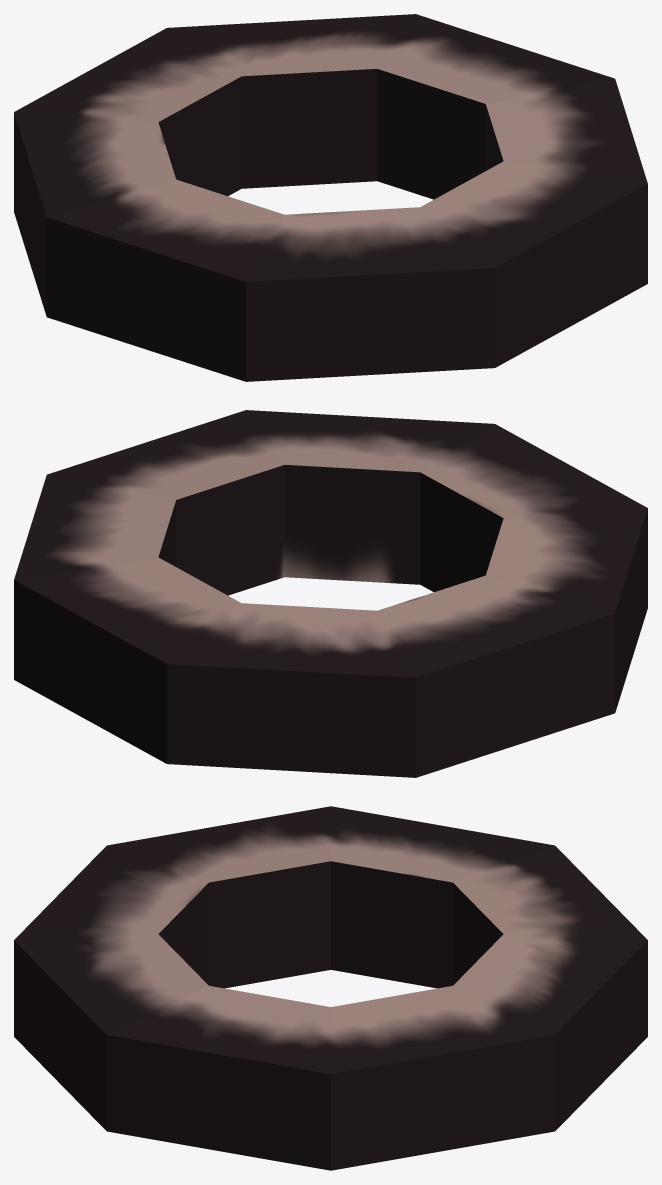
Rendered from Olive.fbx.
The picture shows the model from 3 angles, top to bottom: view 1: azimuth 30°, elevation 25°; view 2: azimuth 150°, elevation 25°; view 3: azimuth 270°, elevation 25°; orthographic projection. The views are drawn at different scales.
Parts seen in each view (by area): view 1: Circle; view 2: Circle; view 3: Circle.
Boxes of the visible parts, <box> form: Circle: <box>14,14,647,381</box>; Circle: <box>14,410,647,777</box>; Circle: <box>14,806,647,1170</box>.
Bounding box in the file's own units: 16.55 × 3.13 × 16.55.
